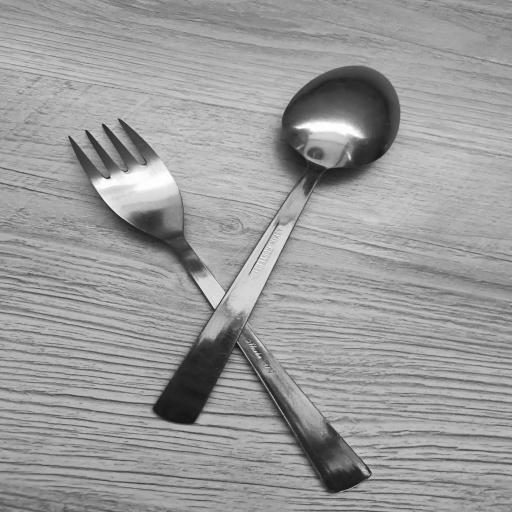fork: (70, 118, 382, 490)
spoon: (148, 62, 405, 426)
